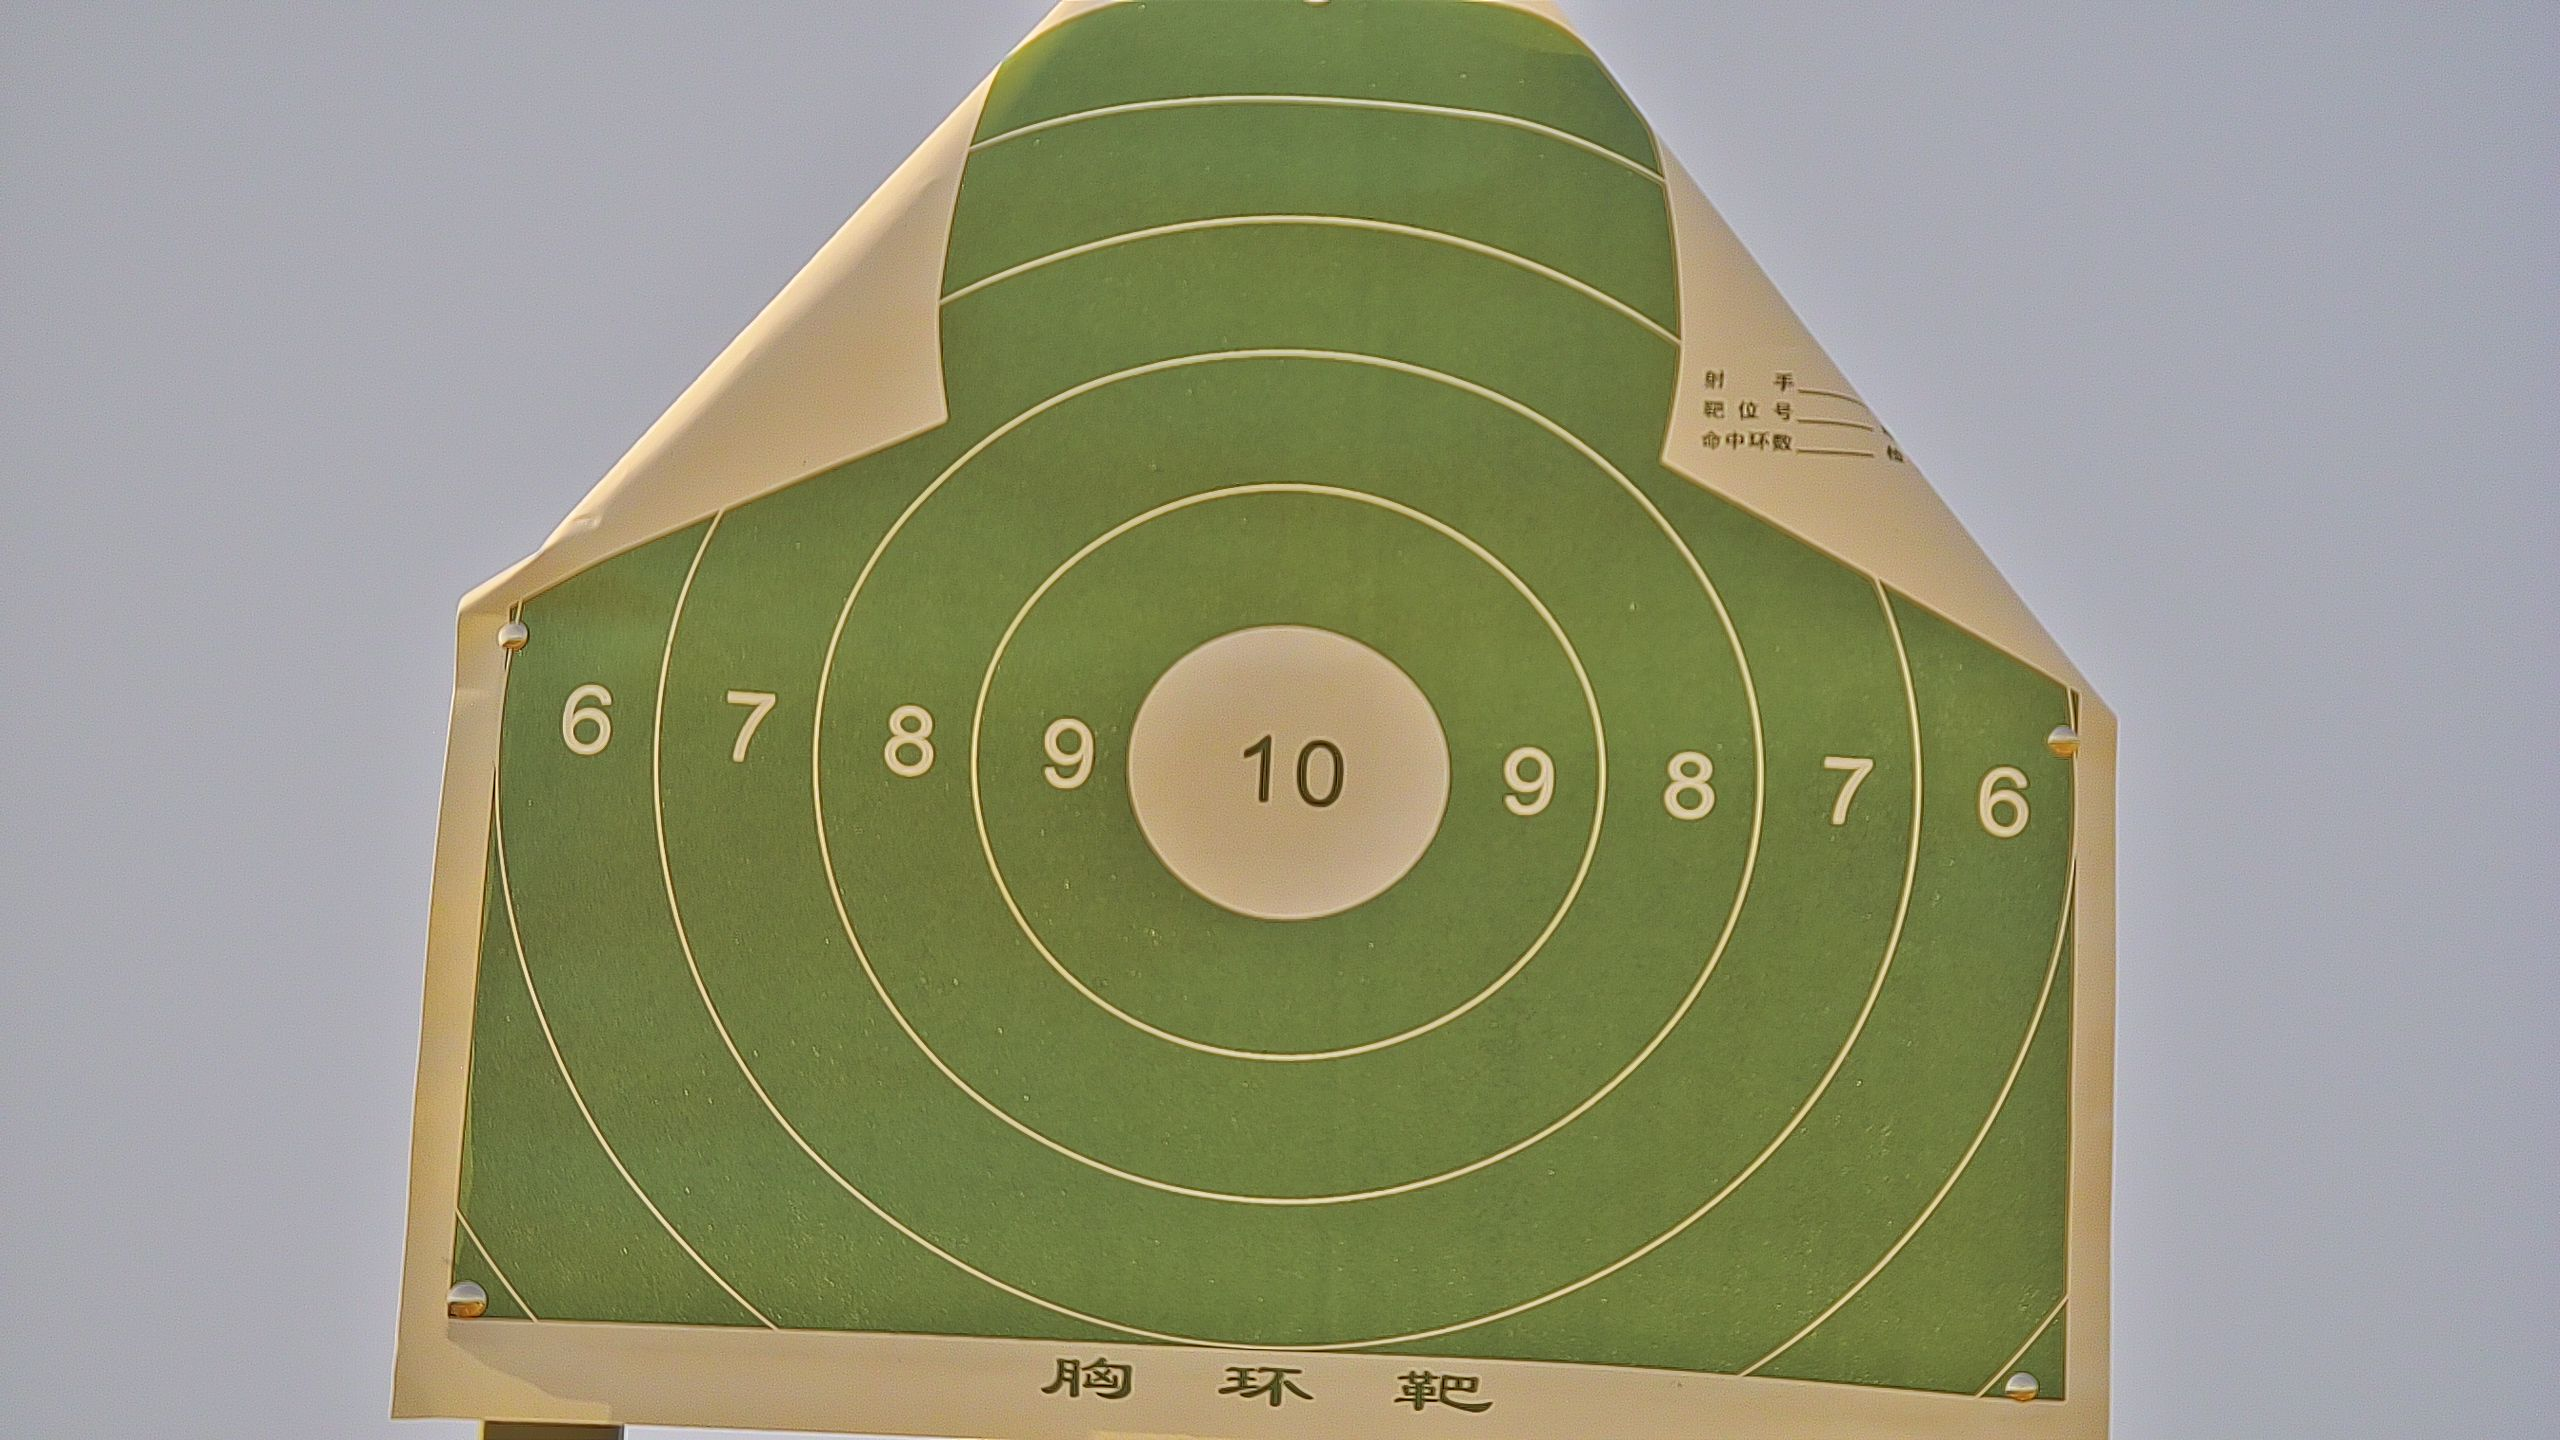kernel: (1285, 768, 1289, 774)
target: (445, 11, 2073, 1405)
ten: (1127, 621, 1451, 927)
